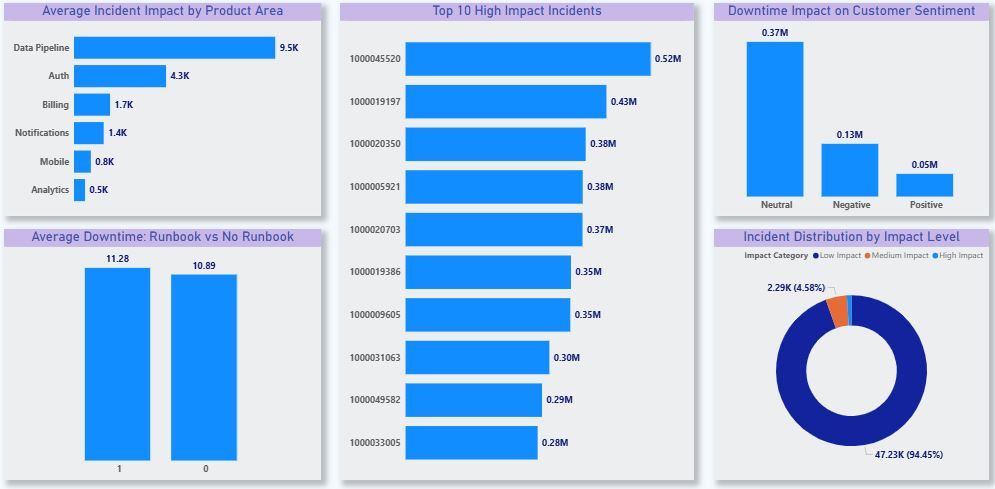

The page's visual inventory and layout, read from the dashboard file:
{"tool":"powerbi","page":{"name":"Optimization & Risk Insights","canvas":[1800,900],"ordinal":2},"visuals":[{"type":"clusteredBarChart","title":"Top 10 High Impact Incidents","fields":{"Category":["Worksheet.ticket_id"],"Y":["Sum(Worksheet.Impact_Score)"]},"box":[617.4,16.2,637.2,858.6],"z":0},{"type":"clusteredBarChart","title":"Average Incident Impact by Product Area","fields":{"Category":["Worksheet.product_area"],"Y":["Avg(Worksheet.Impact_Score)"]},"box":[12.6,16.2,570.6,383.4],"z":1000},{"type":"clusteredColumnChart","title":"Average Downtime: Runbook vs No Runbook","fields":{"Category":["Worksheet.has_runbook"],"Y":["Avg(Worksheet.downtime_min)"]},"box":[12.6,423,570.6,451.8],"z":2000},{"type":"clusteredColumnChart","title":"Downtime Impact on Customer Sentiment","fields":{"Y":["Sum(Worksheet.downtime_min)"],"Category":["Worksheet.customer_sentiment"]},"box":[1290.6,16.2,495,383.4],"z":3000},{"type":"donutChart","title":"Incident Distribution by Impact Level","fields":{"Category":["Worksheet.Impact_Category"],"Y":["CountNonNull(Worksheet.ticket_id)"]},"box":[1290.6,423,495,451.8],"z":4000}]}

Visuals, with their boxes in screenshot pixels (x1, y1, x2, y2), scaled from the page's 1800x900 canvas onto the 995x489 screenshot:
"Top 10 High Impact Incidents" clusteredBarChart: BBox(341, 9, 694, 475)
"Average Incident Impact by Product Area" clusteredBarChart: BBox(7, 9, 322, 217)
"Average Downtime: Runbook vs No Runbook" clusteredColumnChart: BBox(7, 230, 322, 475)
"Downtime Impact on Customer Sentiment" clusteredColumnChart: BBox(713, 9, 987, 217)
"Incident Distribution by Impact Level" donutChart: BBox(713, 230, 987, 475)
